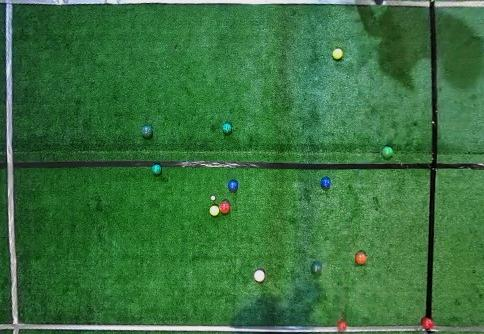blue: (228, 180, 238, 191), (321, 178, 331, 188)
green: (381, 146, 393, 158), (141, 125, 153, 137), (222, 122, 232, 134), (152, 164, 162, 175), (312, 262, 321, 273)
red: (421, 316, 434, 330), (355, 251, 367, 265), (219, 201, 230, 214), (254, 270, 265, 282), (337, 320, 348, 332)
vline: (426, 1, 483, 316), (0, 1, 23, 333)
white: (211, 196, 215, 200)
yellow: (209, 205, 220, 216), (333, 48, 343, 60)
